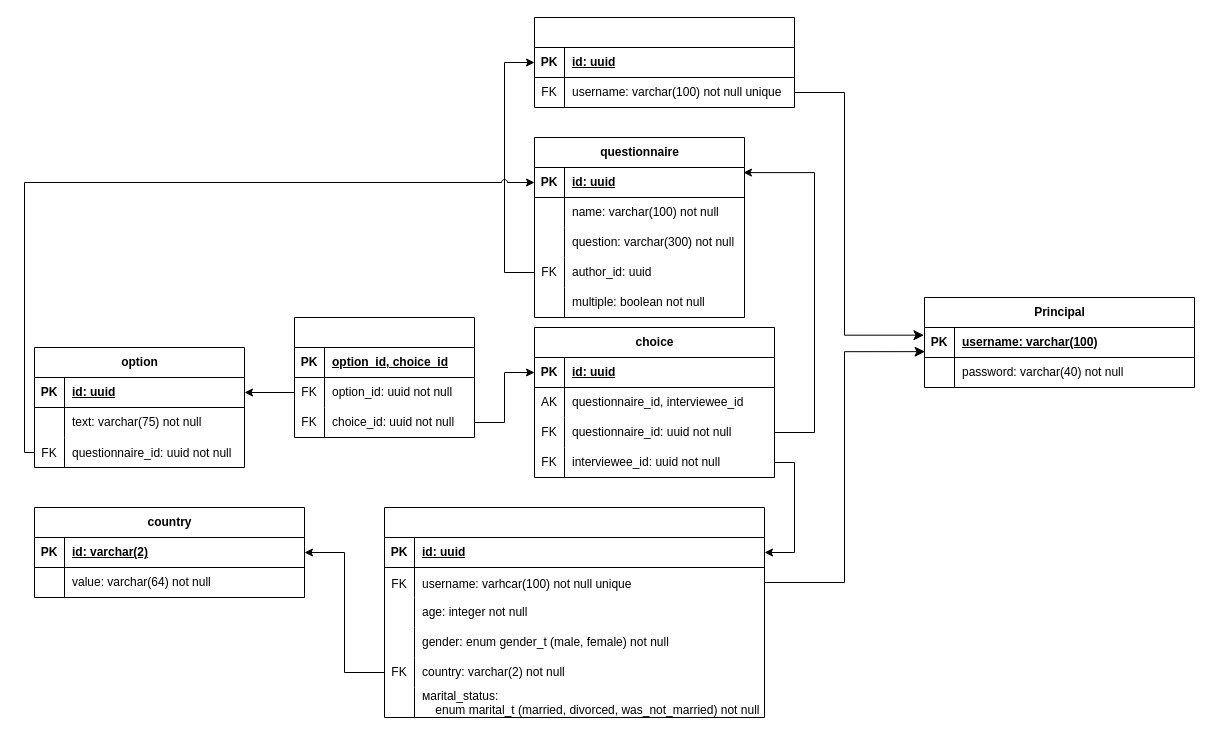
The diagram is 1212 pixels wide and 735 high, and some of its shapes have lost their labels. Each missing label, with the box of its shape:
author: (534, 16, 794, 108)
interviewee: (384, 506, 764, 718)
option_choice: (294, 316, 474, 438)
